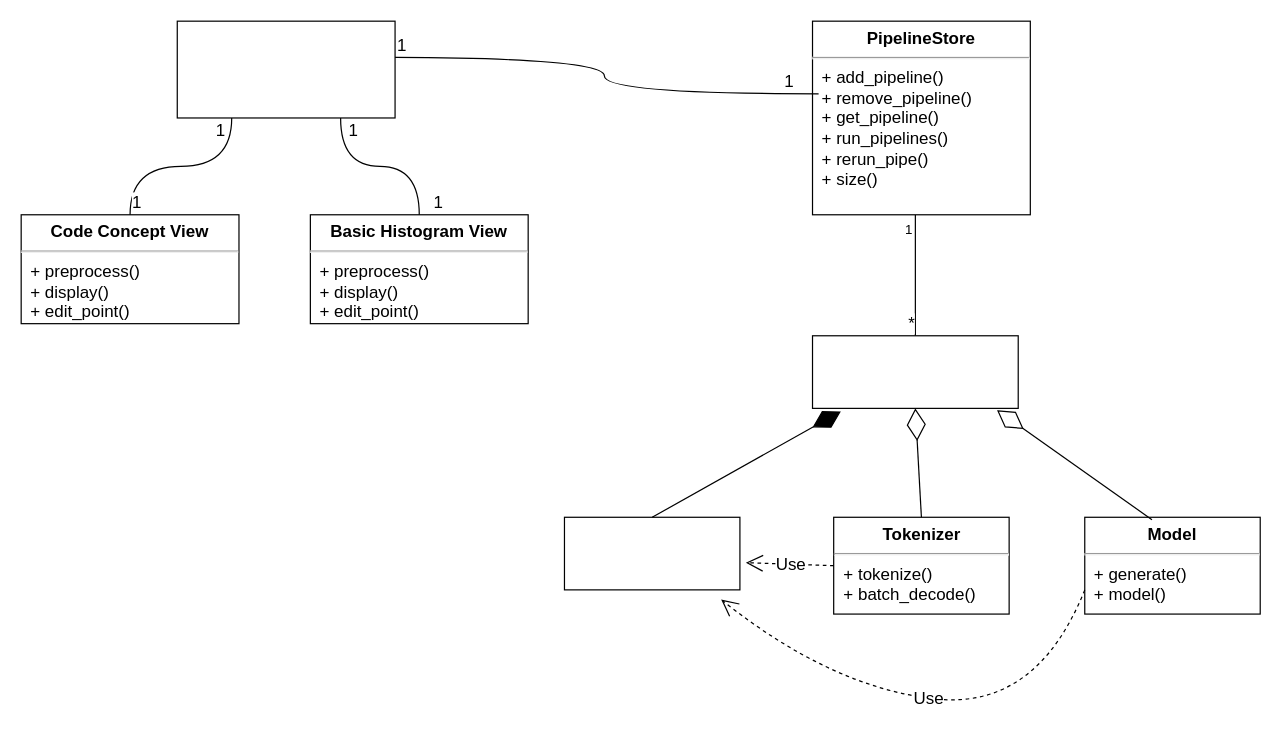
The diagram is 1281 pixels wide and 730 high, and some of its shapes have lost their labels. Each missing label, with the box of its shape:
Dataset + preprocess(): (563, 516, 740, 590)
Pipeline + run(): (811, 335, 1018, 408)
WITCode + choose_view() + choose_stats(): (176, 20, 395, 118)
